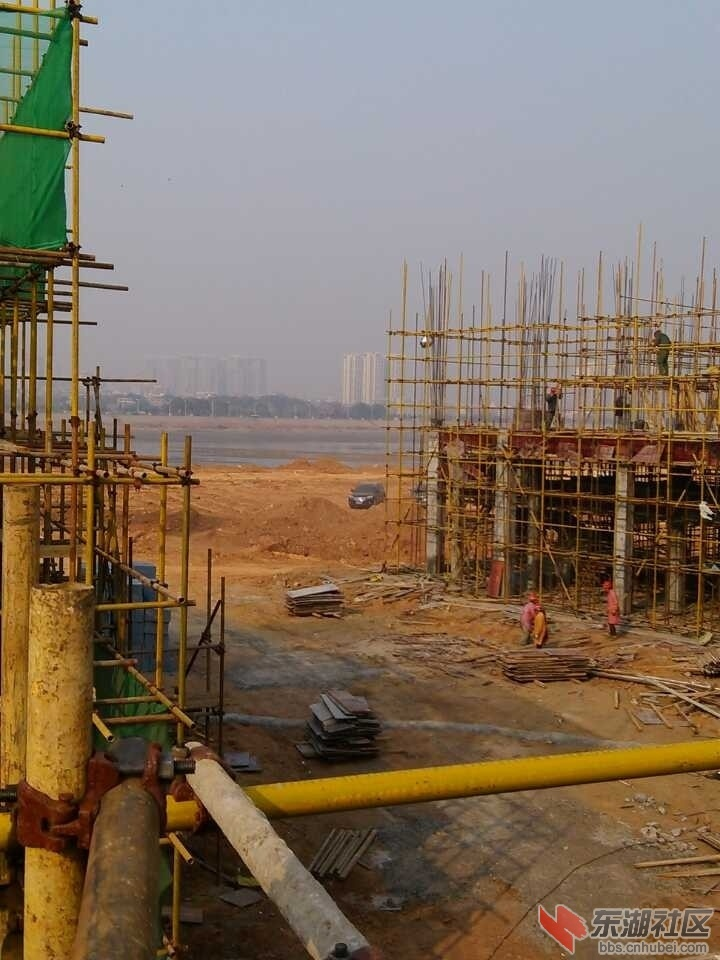red: (602, 580, 612, 592), (528, 591, 537, 604), (534, 605, 542, 614)
